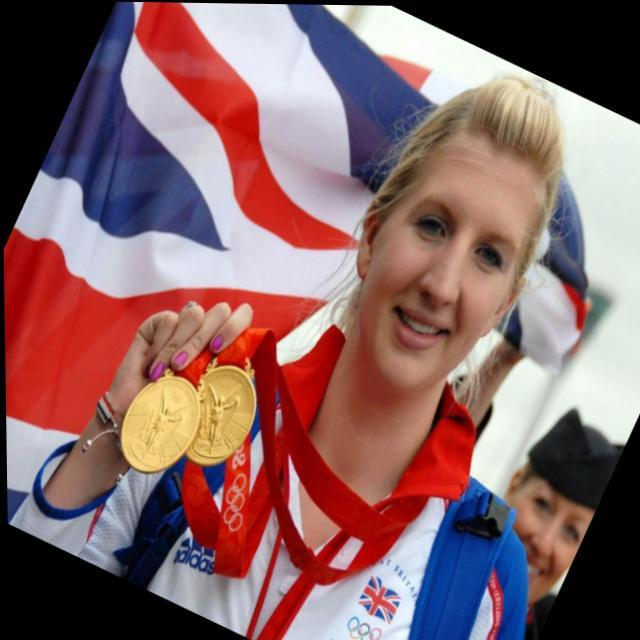Nonhelmet: (318, 72, 569, 402)
